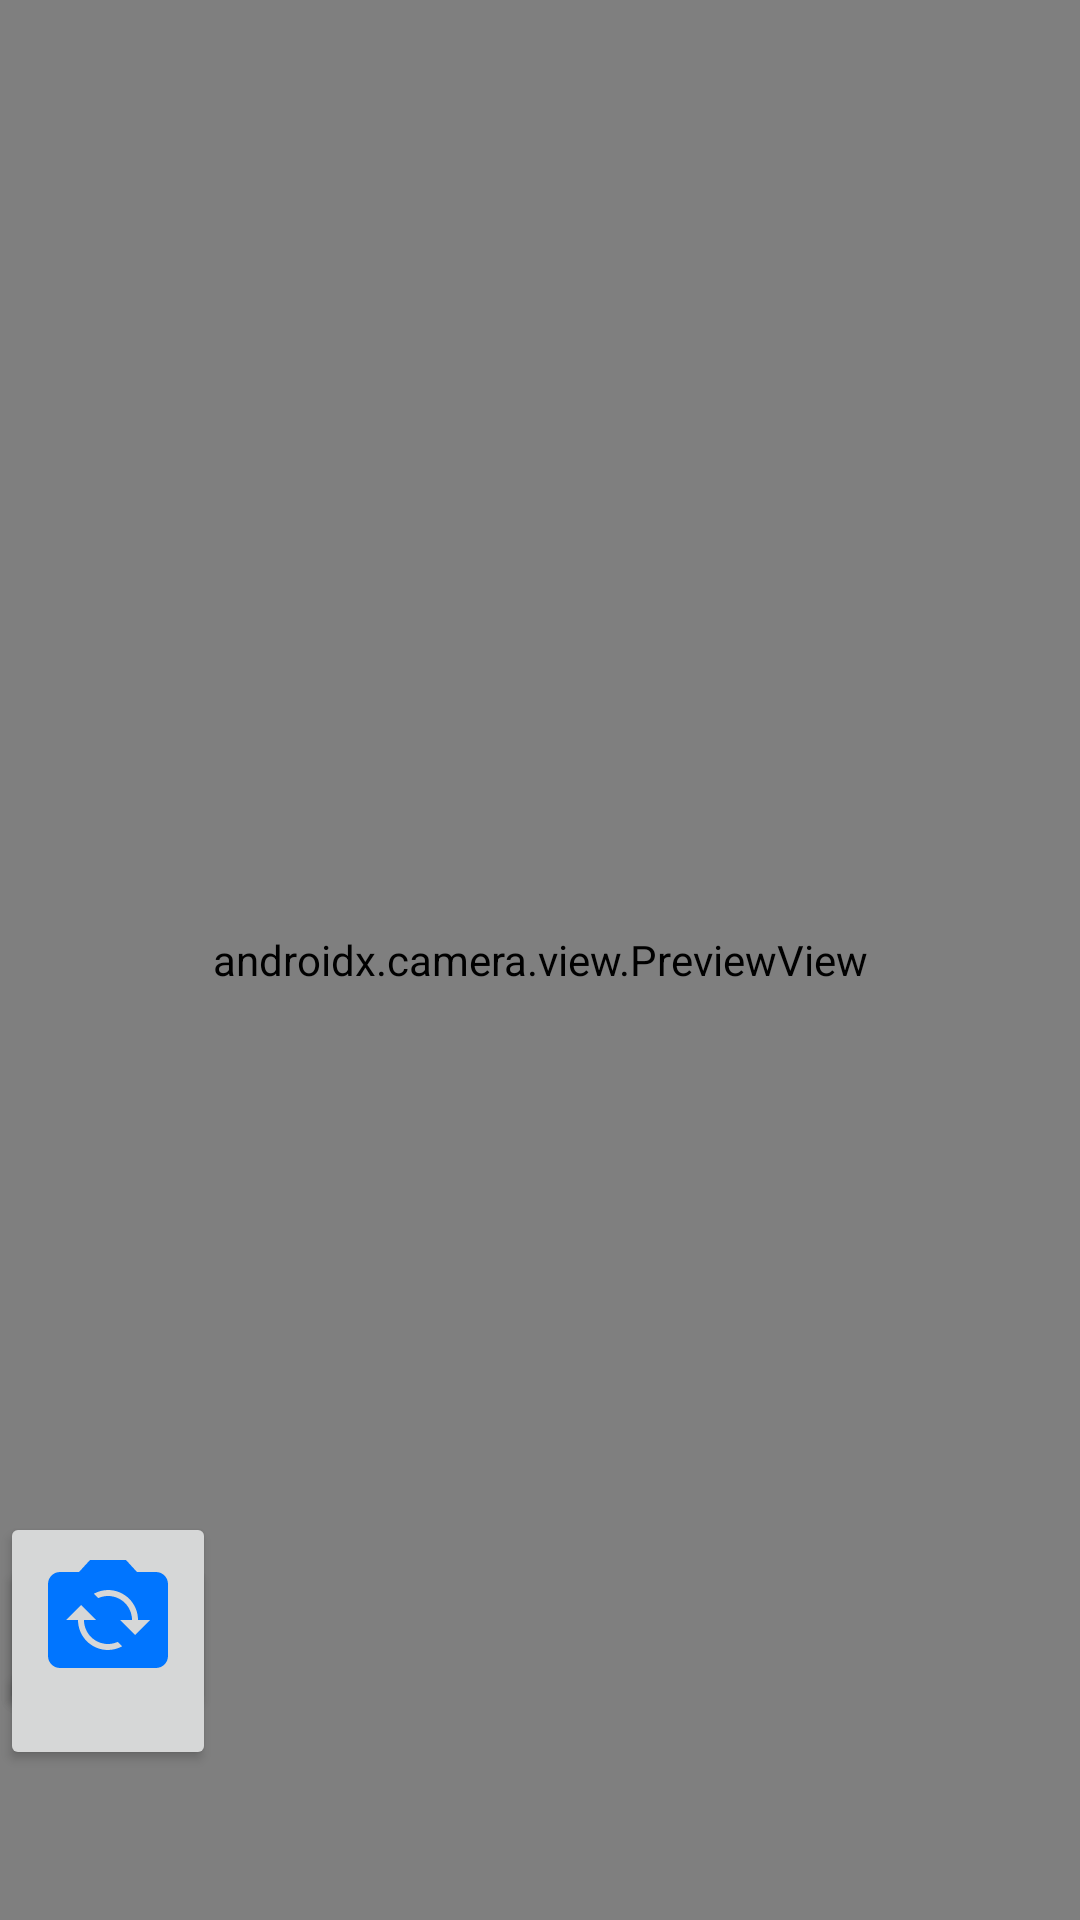

Screen size 1080x1920. Icon name, then its center in pixels as point (x, y):
flip camera: point (107, 1623)
